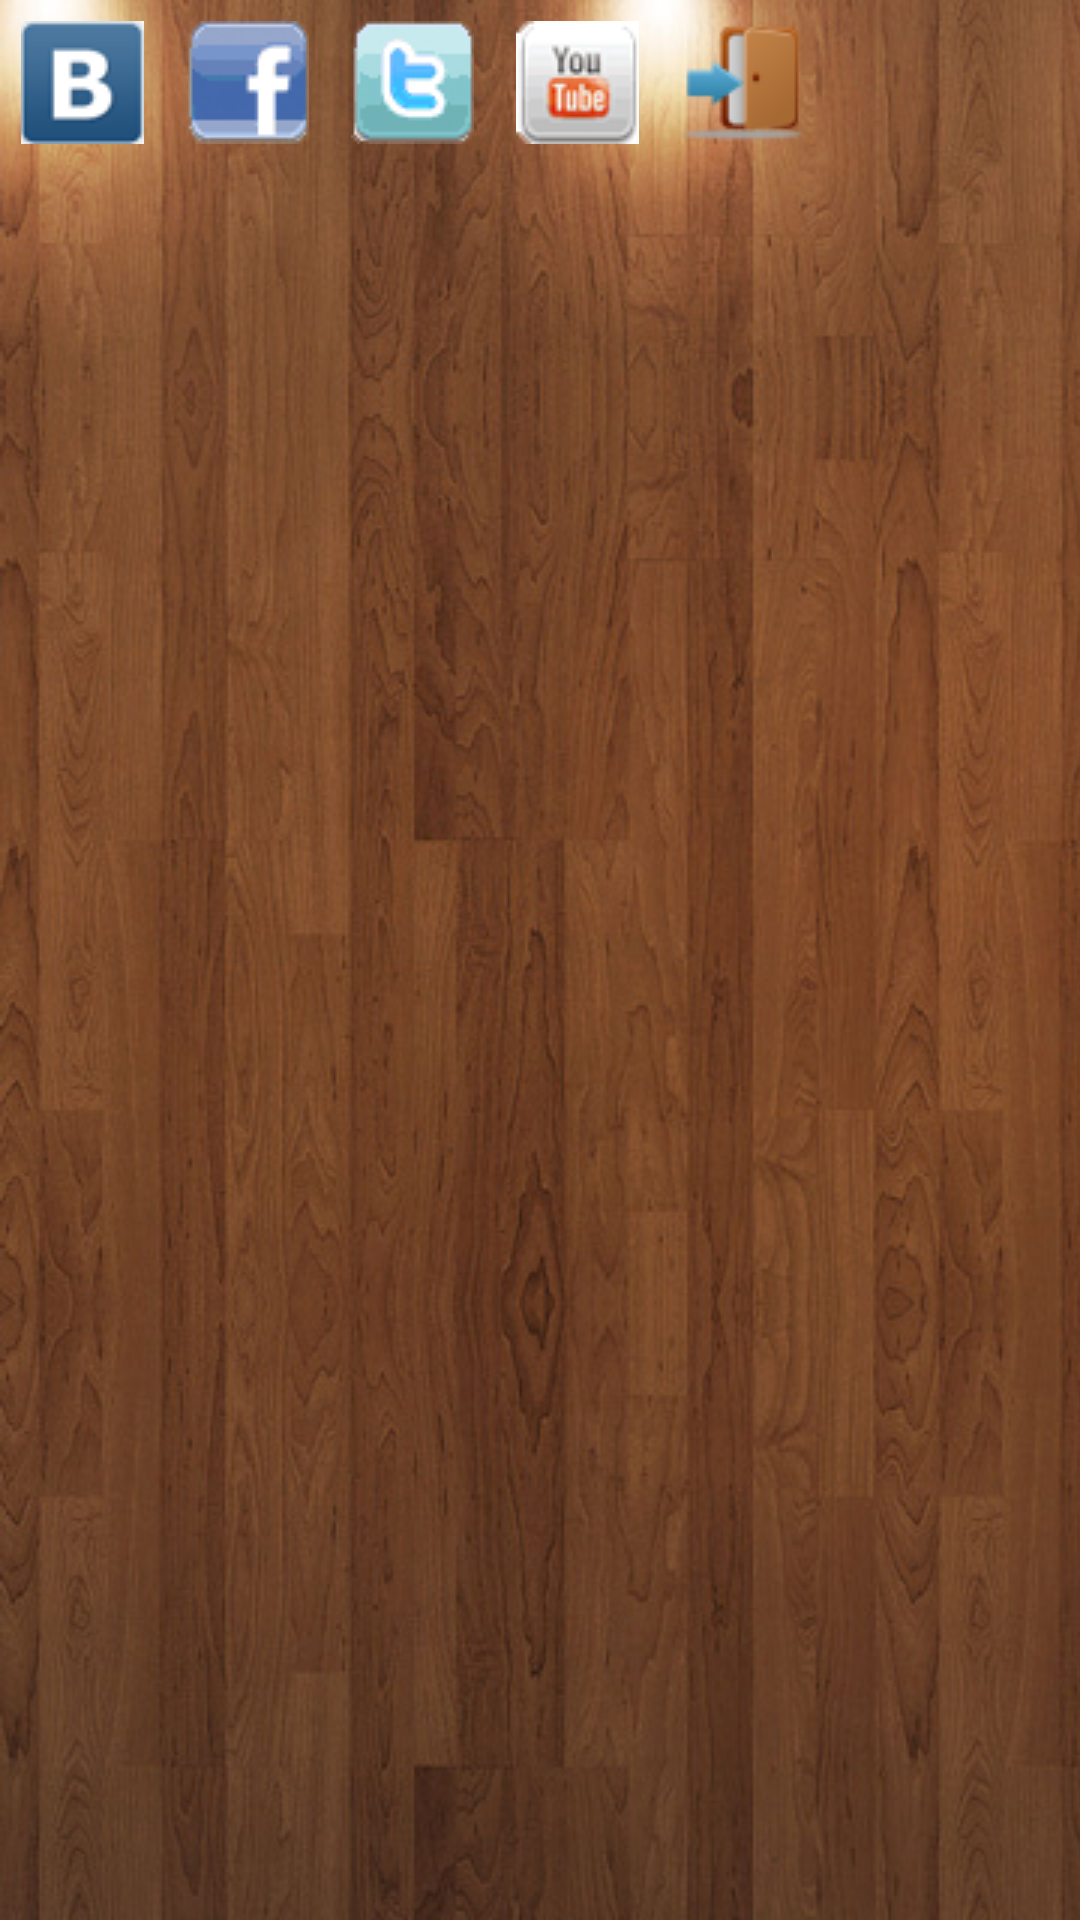

Icon click points for this 1080×1920 phone screenshot, format (x=x, y=y):
exit: (x=742, y=82)
